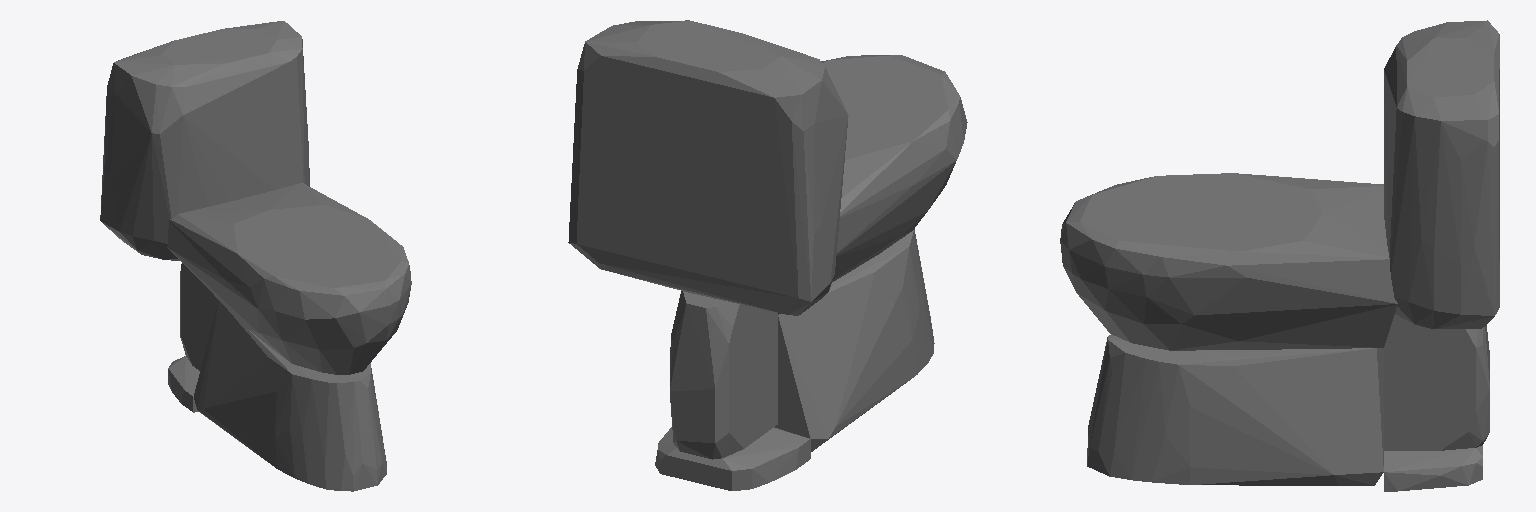
URDF robot description (toilet_003):
<?xml version="1.0" ?>
<robot name="toilet_003">
  <material name="color">
    <color rgba=".5 .5 .5 1"/>
  </material>

  <link name="base_link">
    <contact>
      <lateral_friction value="1.0"/>
      <rolling_friction value="0.001"/>
      <spinning_friction value="0.001"/>
      <inertia_scaling value="1.0"/>
    </contact>
    <inertial>
      <origin rpy="0 0 0" xyz="0.000495864 0.0138689 -0.0185902"/>
       <mass value="0.1"/>
       <inertia ixx="1" ixy="0" ixz="0" iyy="1" iyz="0" izz="1"/>
    </inertial>

    <visual>
      <origin rpy="0 0 0" xyz="0 0 0"/>
      <geometry>
        <mesh filename="toilet_003_vhacd_0_of_5.obj" scale="1 1 1"/>
      </geometry>
      <material name="color"/>
    </visual>
    <visual>
      <origin rpy="0 0 0" xyz="0 0 0"/>
      <geometry>
        <mesh filename="toilet_003_vhacd_1_of_5.obj" scale="1 1 1"/>
      </geometry>
      <material name="color"/>
    </visual>
    <visual>
      <origin rpy="0 0 0" xyz="0 0 0"/>
      <geometry>
        <mesh filename="toilet_003_vhacd_2_of_5.obj" scale="1 1 1"/>
      </geometry>
      <material name="color"/>
    </visual>
    <visual>
      <origin rpy="0 0 0" xyz="0 0 0"/>
      <geometry>
        <mesh filename="toilet_003_vhacd_3_of_5.obj" scale="1 1 1"/>
      </geometry>
      <material name="color"/>
    </visual>
    <visual>
      <origin rpy="0 0 0" xyz="0 0 0"/>
      <geometry>
        <mesh filename="toilet_003_vhacd_4_of_5.obj" scale="1 1 1"/>
      </geometry>
      <material name="color"/>
    </visual>

    <collision>
      <origin rpy="0 0 0" xyz="0 0 0"/>
      <geometry>
        <mesh filename="toilet_003_vhacd_0_of_5.obj" scale="1 1 1"/>
      </geometry>
    </collision>
    <collision>
      <origin rpy="0 0 0" xyz="0 0 0"/>
      <geometry>
        <mesh filename="toilet_003_vhacd_1_of_5.obj" scale="1 1 1"/>
      </geometry>
    </collision>
    <collision>
      <origin rpy="0 0 0" xyz="0 0 0"/>
      <geometry>
        <mesh filename="toilet_003_vhacd_2_of_5.obj" scale="1 1 1"/>
      </geometry>
    </collision>
    <collision>
      <origin rpy="0 0 0" xyz="0 0 0"/>
      <geometry>
        <mesh filename="toilet_003_vhacd_3_of_5.obj" scale="1 1 1"/>
      </geometry>
    </collision>
    <collision>
      <origin rpy="0 0 0" xyz="0 0 0"/>
      <geometry>
        <mesh filename="toilet_003_vhacd_4_of_5.obj" scale="1 1 1"/>
      </geometry>
    </collision>

  </link>
</robot>

--- What the picture shows (computed from the rendered views, not written in the file) ---
The picture shows the robot from 3 angles, left to right: view 1: azimuth 30°, elevation 25°; view 2: azimuth 150°, elevation 25°; view 3: azimuth 270°, elevation 25°; orthographic projection.
Robot: toilet_003 — 1 links, 0 joints (none); root link base_link; default pose: every joint at zero.
Links seen in each view (by area): view 1: base_link; view 2: base_link; view 3: base_link.
Boxes of the visible links, box(x1,y1,x2,y2) form: base_link: box(100, 21, 411, 491); base_link: box(568, 20, 967, 490); base_link: box(1060, 20, 1499, 491).
Bounding box of the posed robot: 0.314 × 0.5218 × 0.5213 m (x, y, z).
Meshes: 5 distinct files referenced, 5 mesh visuals loaded (5 OBJ).